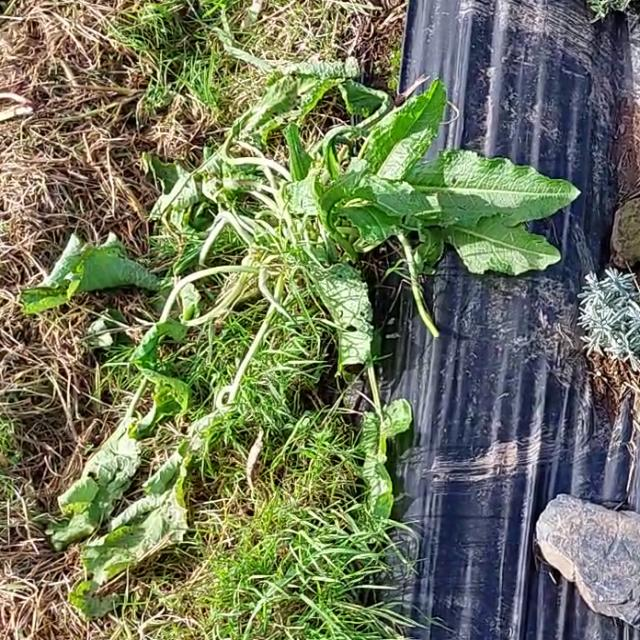organic waste: (13, 74, 619, 624)
